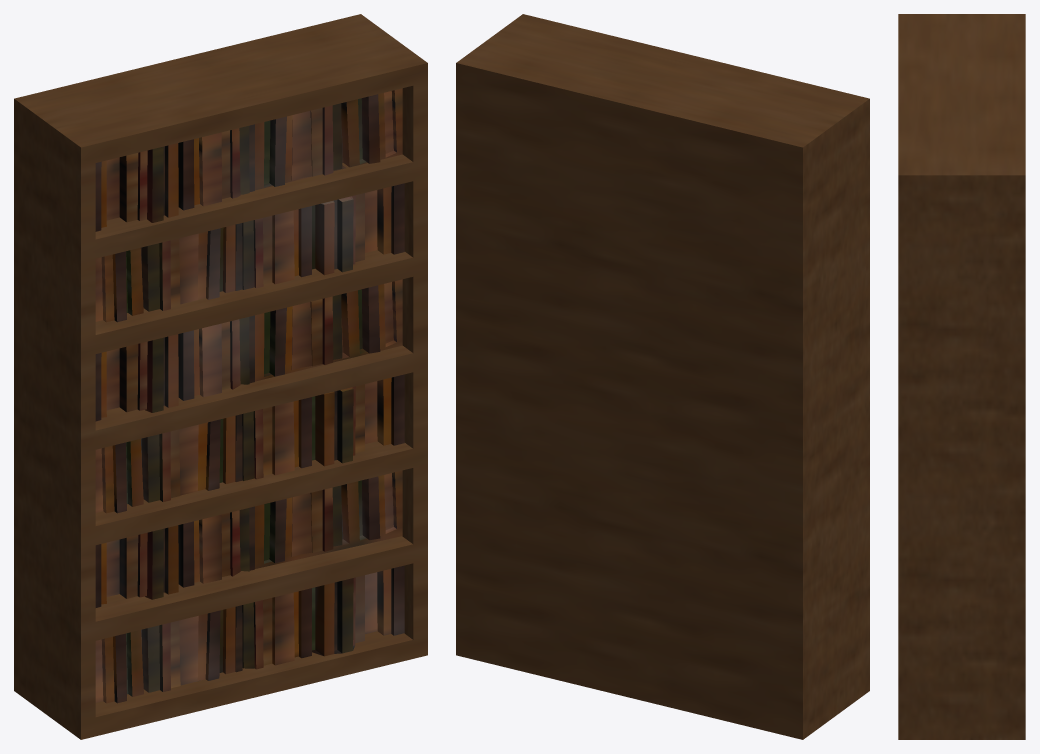
File: bookshelf_low_poly.glb
The picture shows the model from 3 angles, left to right: view 1: azimuth 30°, elevation 25°; view 2: azimuth 150°, elevation 25°; view 3: azimuth 270°, elevation 25°; orthographic projection. The views are drawn at different scales.
Parts seen in each view (by area): view 1: Plane_Baked; view 2: Plane_Baked; view 3: Plane_Baked.
Boxes of the visible parts, x1=… form: Plane_Baked: x1=14, y1=14, x2=427, y2=739; Plane_Baked: x1=456, y1=14, x2=869, y2=739; Plane_Baked: x1=898, y1=14, x2=1025, y2=739.
Size of the model in its own units: 1.09 by 1.78 by 0.3653.
Materials: 1 (1 with a texture image).
